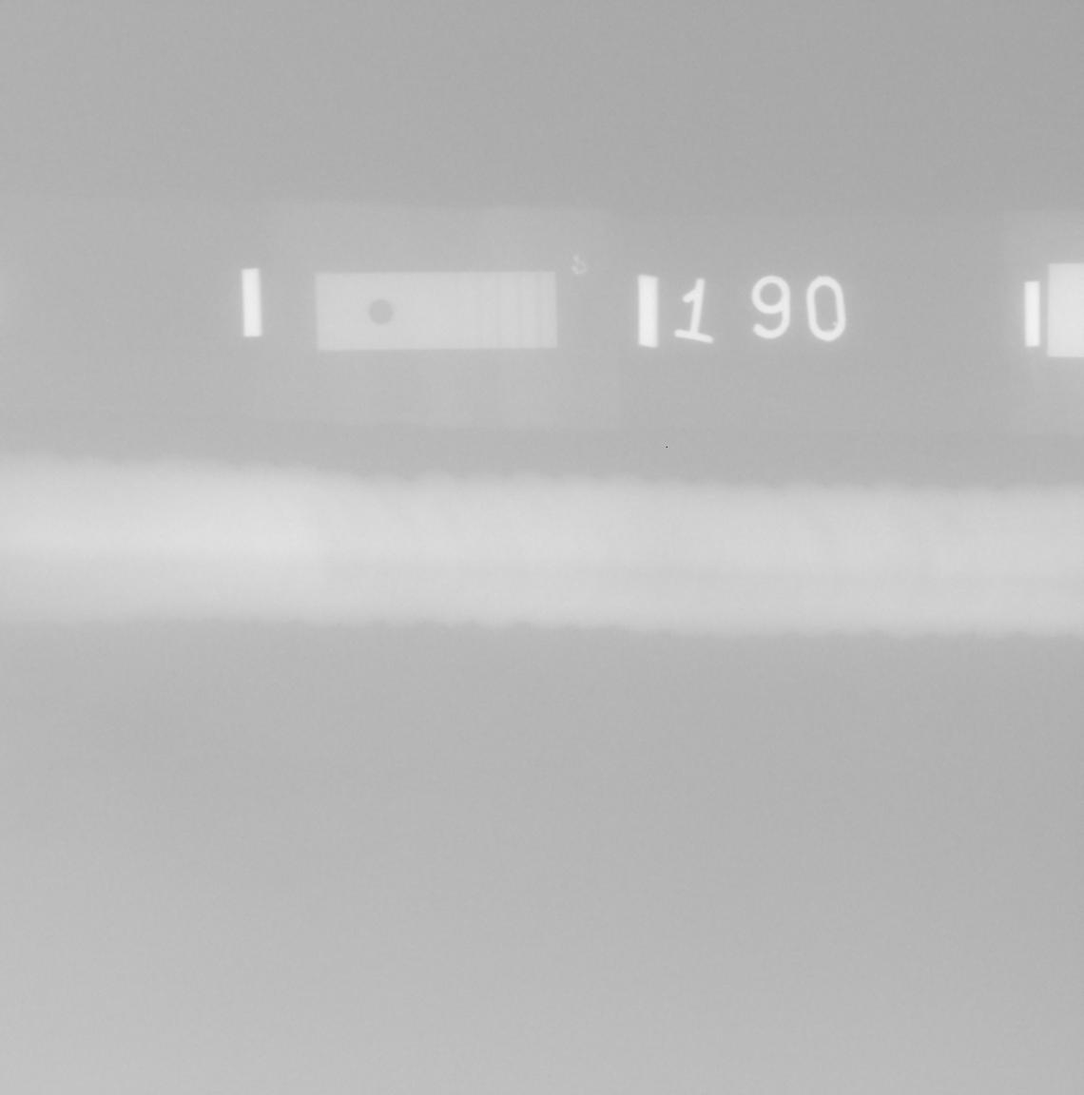Reference Standard 1: (314, 271, 557, 350)
